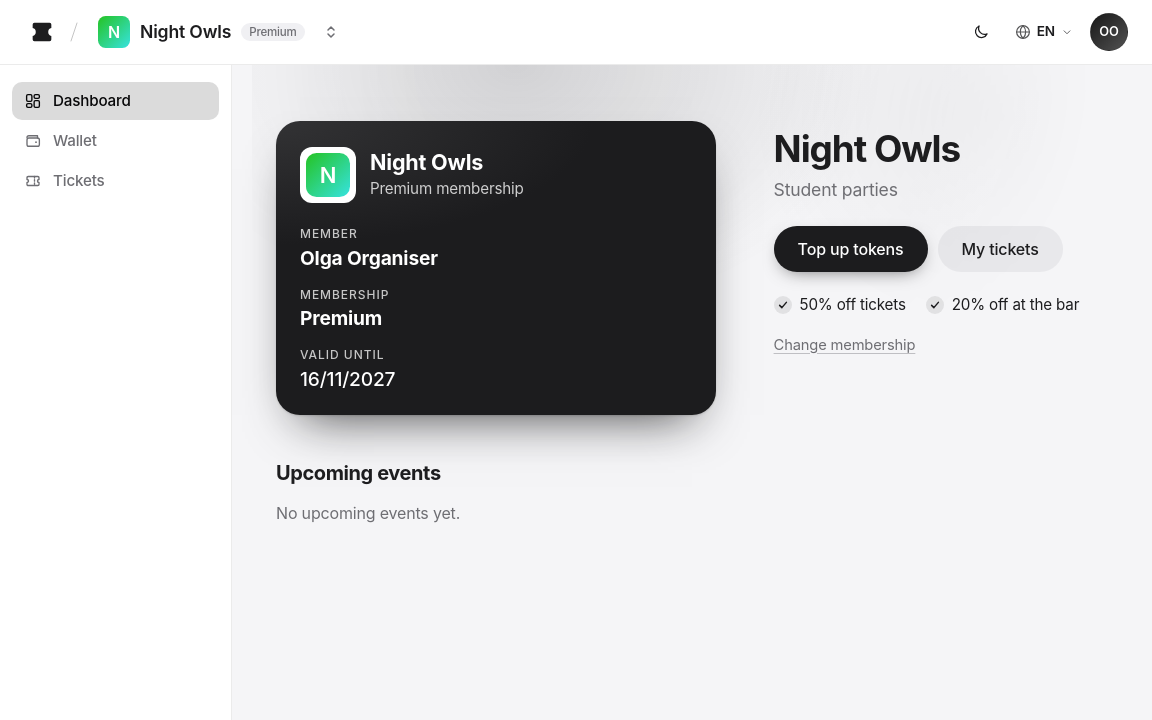
Test: organisation switcher › closes when Escape is pressed
Click the button named "Switch organisation" at (331, 32), box left=317, top=16, right=345, bottom=48
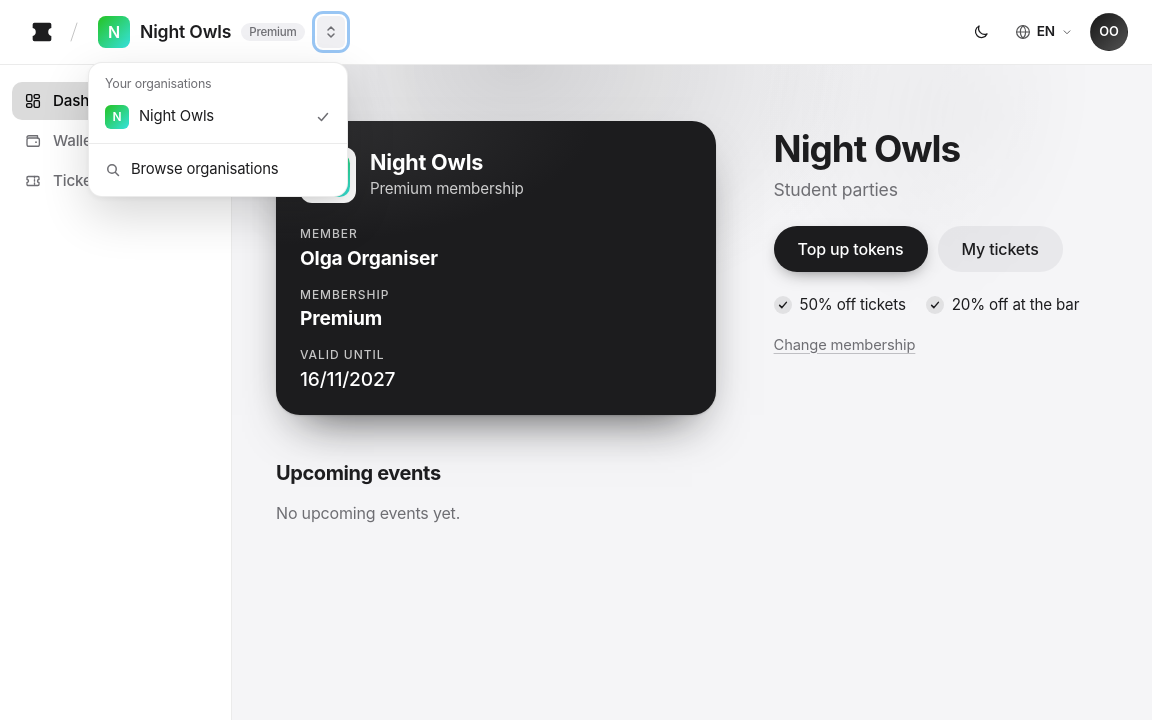
Press Escape
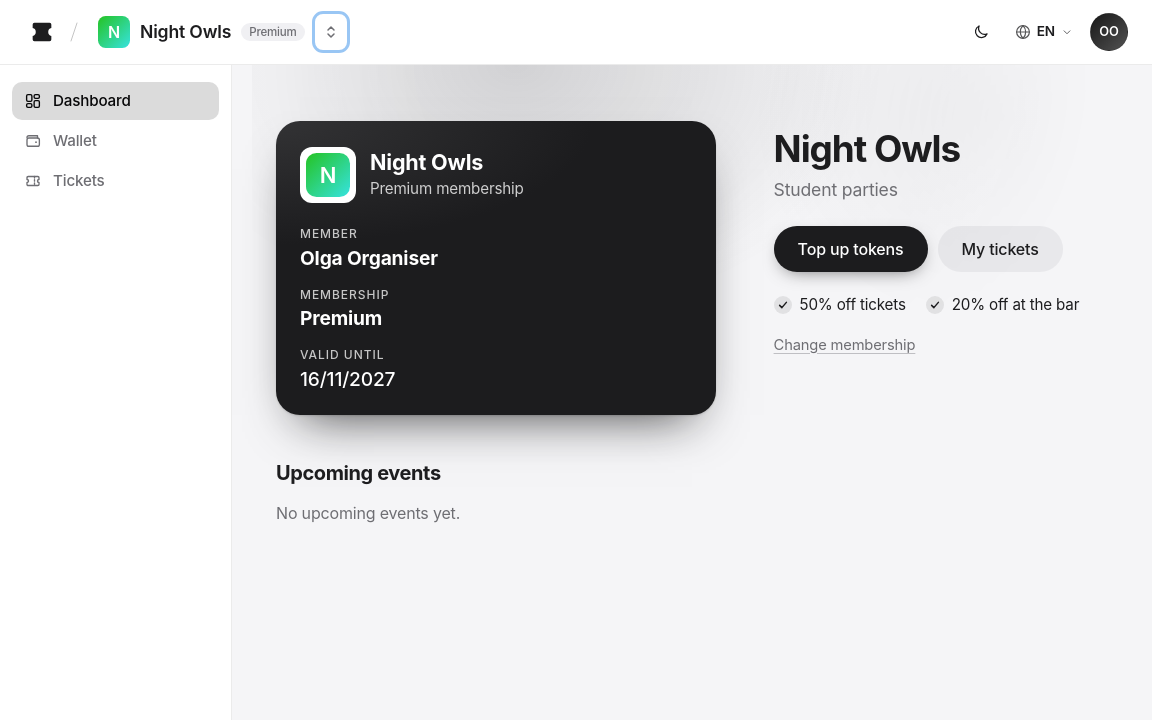
Expected: the text "Your organisations" is gone
